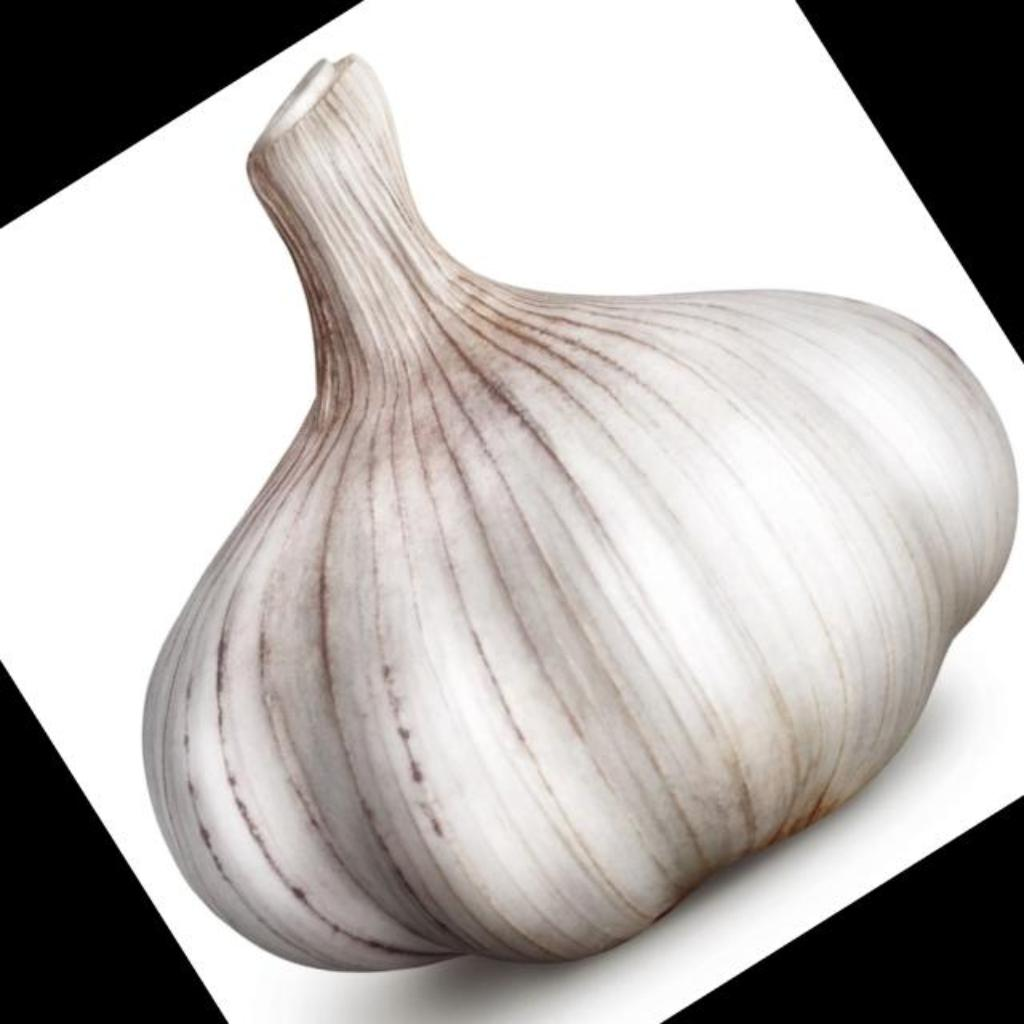garlic: (144, 56, 1016, 970)
